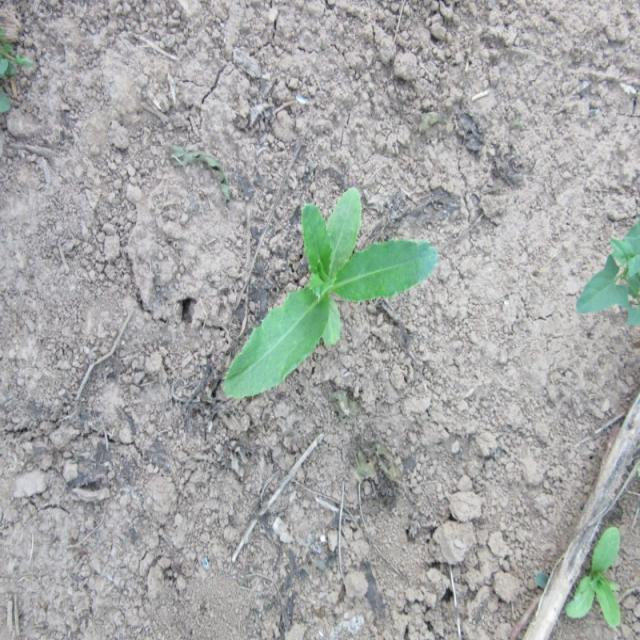cs: (222, 188, 440, 401)
